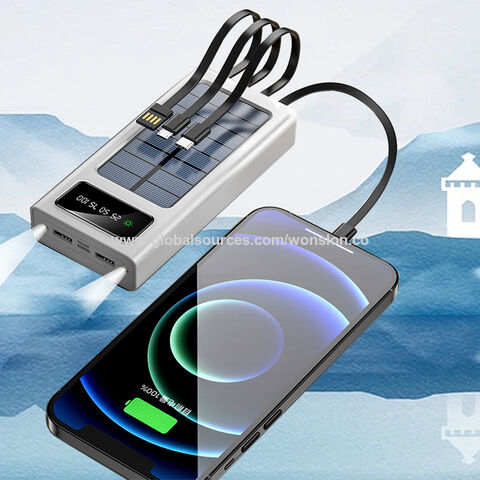mobile: (47, 208, 398, 480)
powerbank: (28, 61, 313, 295)
